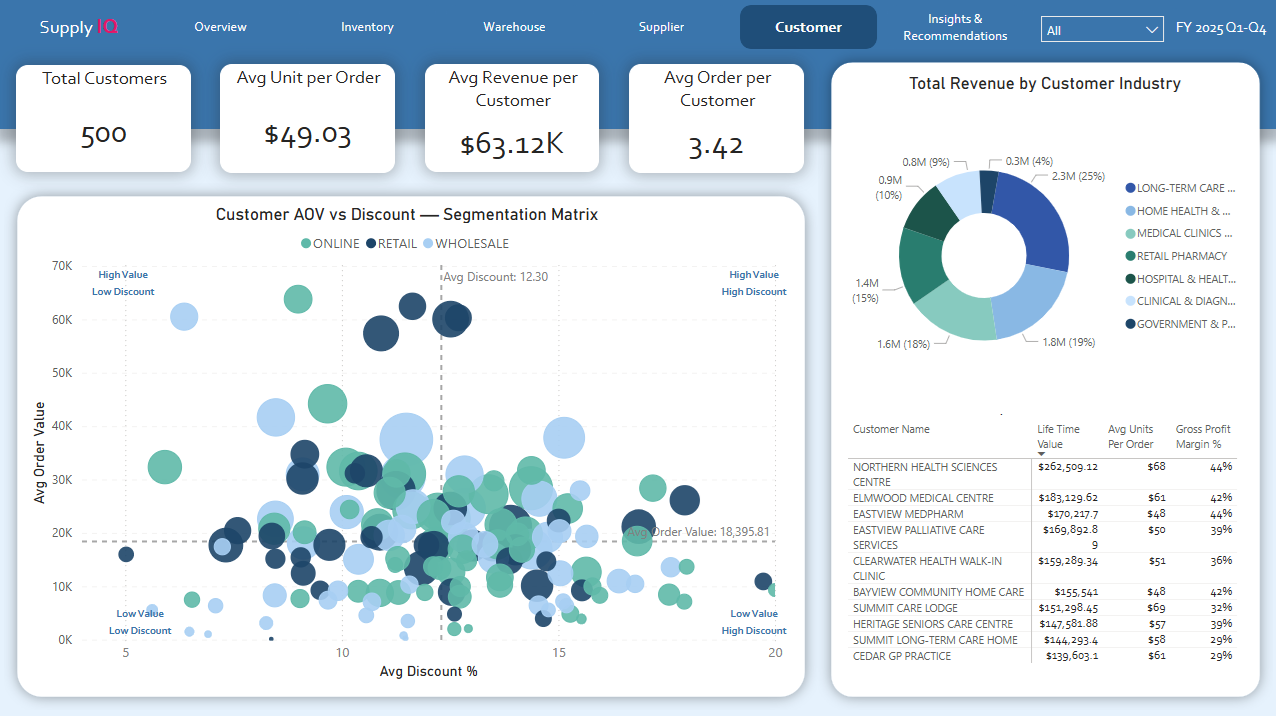

This screenshot's page, from the dashboard's own definition file:
{"tool":"powerbi","page":{"name":"Customer","canvas":[1280,720],"ordinal":4},"visuals":[{"type":"group","id":"g1","title":"Group 9","box":[0,0,1280,130],"z":0},{"type":"shape","box":[4.6,183.6,814.5,527.3],"z":1000},{"type":"pageNavigator","box":[153,6,874,44],"z":2000,"group":"g2"},{"type":"shape","title":"Customer AOV vs Discount — Segmentation Matrix","box":[819.1,50,454.5,660.9],"z":2000},{"type":"textbox","box":[12,9,136,41],"z":3000,"group":"g2"},{"type":"cardVisual","title":"Total Customers","fields":{"Data":["CountNonNull(SALES.CUSTOMER_NAME)"]},"box":[17.2,65.6,174.4,107.8],"z":3000},{"type":"shape","box":[0,0,1280,130],"z":4000,"group":"g1"},{"type":"shape","box":[1170.4,9.1,103.9,34],"z":4000,"group":"g2"},{"type":"pivotTable","title":"Top 10  Customers","fields":{"Rows":["CUSTOMER.CUSTOMER_NAME"],"Values":["CUSTOMER._Cust Life Time Value","CUSTOMER._Cust Avg Units Per Order","CUSTOMER._Cust Gross Profit Margin %"]},"box":[843.6,393.6,411.8,291.8],"z":4000},{"type":"textbox","box":[1170,14,104,34],"z":5000,"group":"g2"},{"type":"cardVisual","title":"Avg Unit per Order","fields":{"Data":["CUSTOMER._Cust Avg Units Per Order"]},"box":[221.4,65.5,174.5,108.2],"z":5000},{"type":"group","id":"g2","title":"Group 1","box":[12,6,1262.3,52],"z":5002,"group":"g1"},{"type":"slicer","fields":{"Values":["DIM_DATE.MONTH_NAME"]},"box":[1037,12,133,46],"z":6000,"group":"g2"},{"type":"cardVisual","title":"Avg Revenue per Customer","fields":{"Data":["CUSTOMER._Cust Avg Revenue Per Customer"]},"box":[425.7,64.5,174.5,108.2],"z":6000},{"type":"cardVisual","title":"Avg Order per Customer","fields":{"Data":["CUSTOMER._Cust Avg Orders Per Customer"]},"box":[630,65.5,174.5,108.2],"z":7000},{"type":"scatterChart","title":"Customer AOV vs Discount — Segmentation Matrix","fields":{"X":["Avg(CUSTOMER.AVG_DISCOUNT_PCT)"],"Y":["Avg(CUSTOMER.AVG_ORDER_VALUE)"],"Size":["CUSTOMER._Cust Life Time Value"],"Category":["CUSTOMER.CUSTOMER_NAME"],"Series":["CUSTOMER.CUSTOMER_SEGMENT"]},"box":[27.3,205.5,761.8,480],"z":8000},{"type":"textbox","box":[82.7,260,81.8,48.2],"z":9000},{"type":"textbox","box":[100,599.1,81.8,48.2],"z":10000},{"type":"textbox","box":[703.6,599.1,102.7,48.2],"z":11000},{"type":"textbox","box":[704,259.8,102,47.9],"z":12000},{"type":"donutChart","title":"Total Revenue by Customer Industry","fields":{"Category":["CUSTOMER.CUSTOMER_INDUSTRY"],"Y":["Sum(CUSTOMER.TOTAL_REVENUE)"]},"box":[843.6,73.6,404.5,341.8],"z":13000}]}

Visuals, with their boxes in screenshot pixels (x1, y1, x2, y2), scaled from the page's 1280x720 canvas onto the 1276x716 screenshot:
"Group 9" group: select_region(0, 0, 1275, 129)
shape: select_region(5, 183, 817, 707)
pageNavigator: select_region(153, 6, 1024, 50)
"Customer AOV vs Discount — Segmentation Matrix" shape: select_region(817, 50, 1270, 707)
textbox: select_region(12, 9, 148, 50)
"Total Customers" cardVisual: select_region(17, 65, 191, 172)
shape: select_region(0, 0, 1275, 129)
shape: select_region(1167, 9, 1270, 43)
"Top 10  Customers" pivotTable: select_region(841, 391, 1251, 682)
textbox: select_region(1166, 14, 1270, 48)
"Avg Unit per Order" cardVisual: select_region(221, 65, 395, 173)
"Group 1" group: select_region(12, 6, 1270, 58)
slicer - DIM_DATE.MONTH_NAME: select_region(1034, 12, 1166, 58)
"Avg Revenue per Customer" cardVisual: select_region(424, 64, 598, 172)
"Avg Order per Customer" cardVisual: select_region(628, 65, 802, 173)
"Customer AOV vs Discount — Segmentation Matrix" scatterChart: select_region(27, 204, 787, 682)
textbox: select_region(82, 259, 164, 306)
textbox: select_region(100, 596, 181, 644)
textbox: select_region(701, 596, 804, 644)
textbox: select_region(702, 258, 803, 306)
"Total Revenue by Customer Industry" donutChart: select_region(841, 73, 1244, 413)
